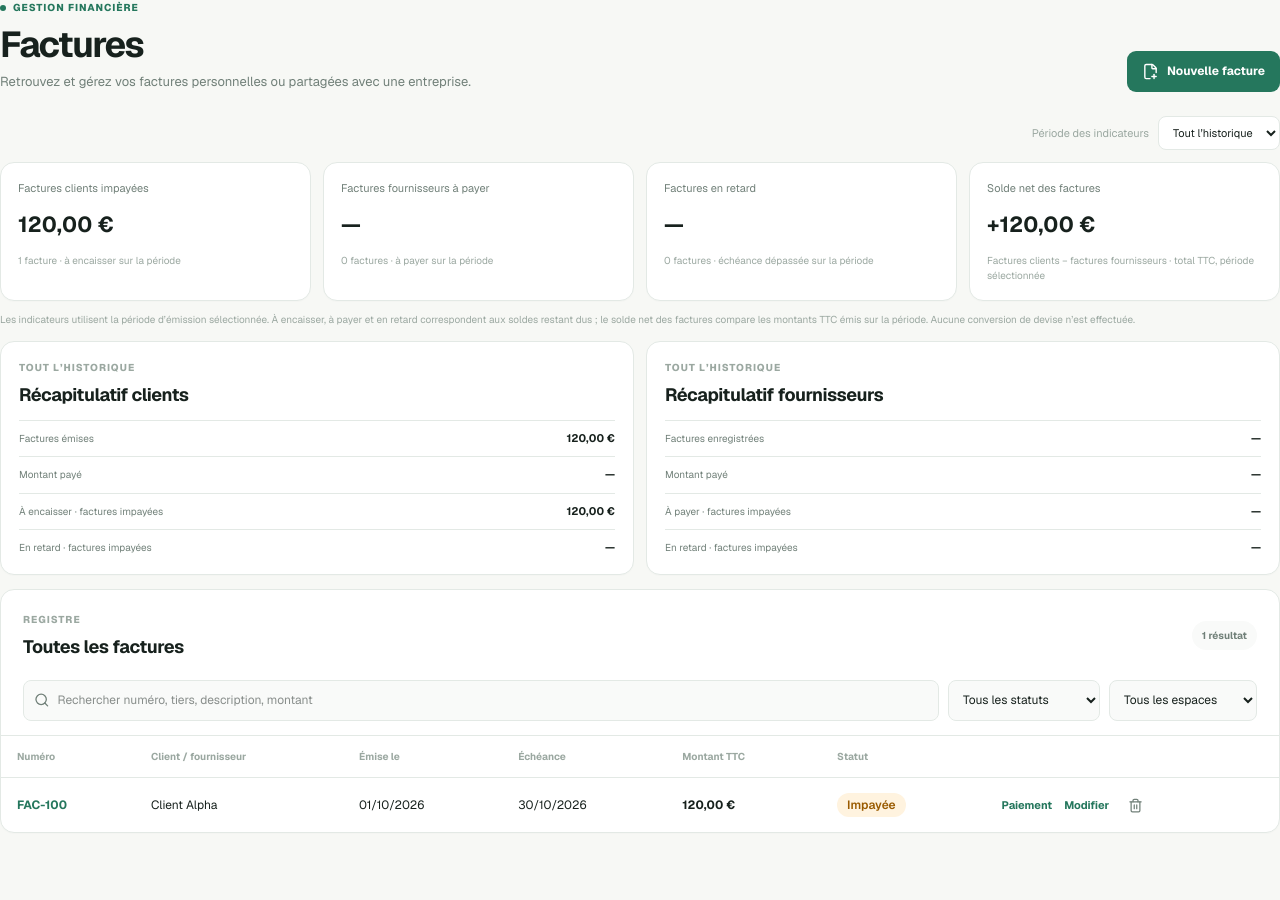
Test: invoice manager › filters by amount and combines search with status filters
Type "120,00" into the search field named "Rechercher une facture".
click(493, 700); type("120,00")  # box [58,681,928,720]
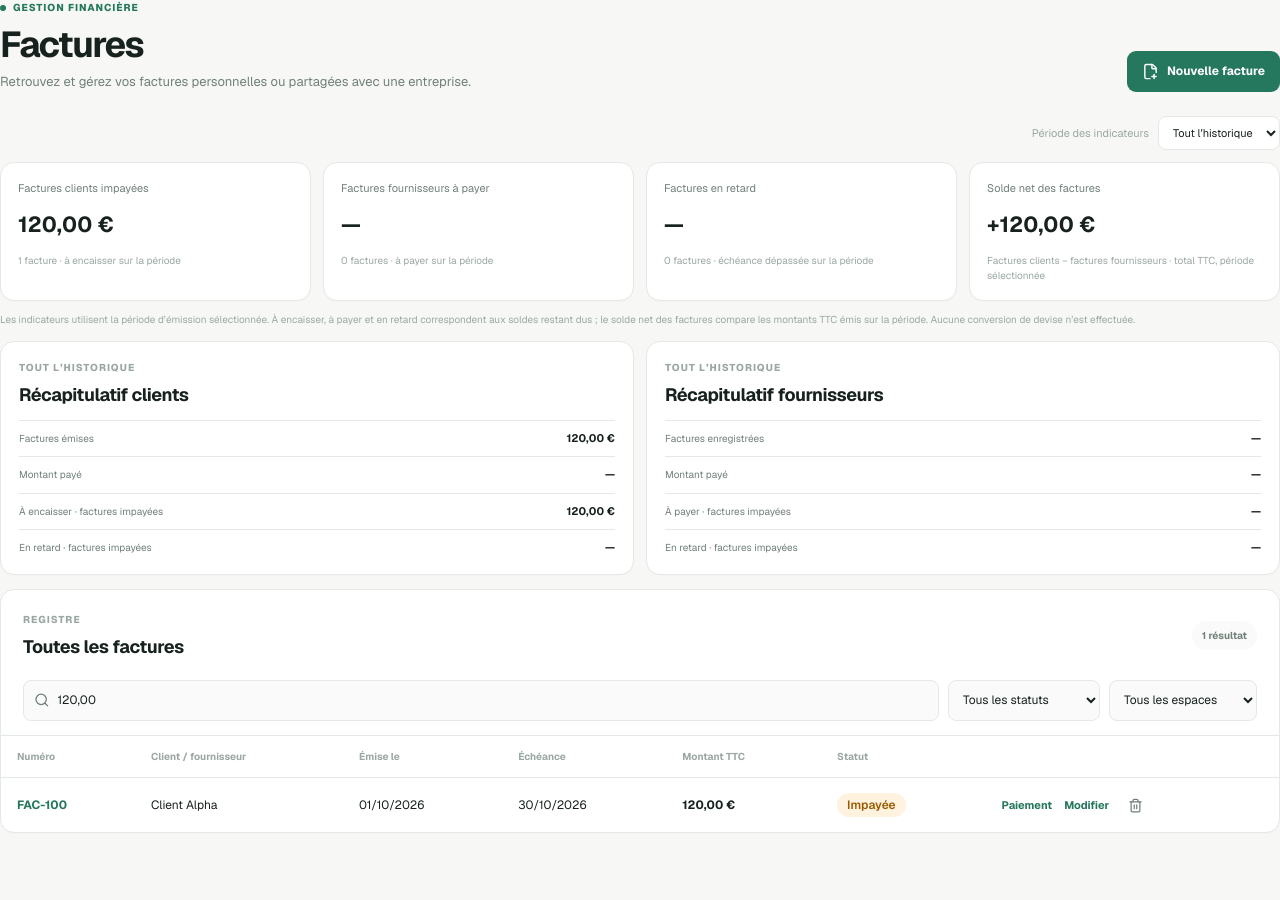
Expected: the button "FAC-100" is shown, [17,796,67,814]
Select "Payée" in the dropdown named "Filtrer par statut" at (1024, 700), box [948,680,1100,721]
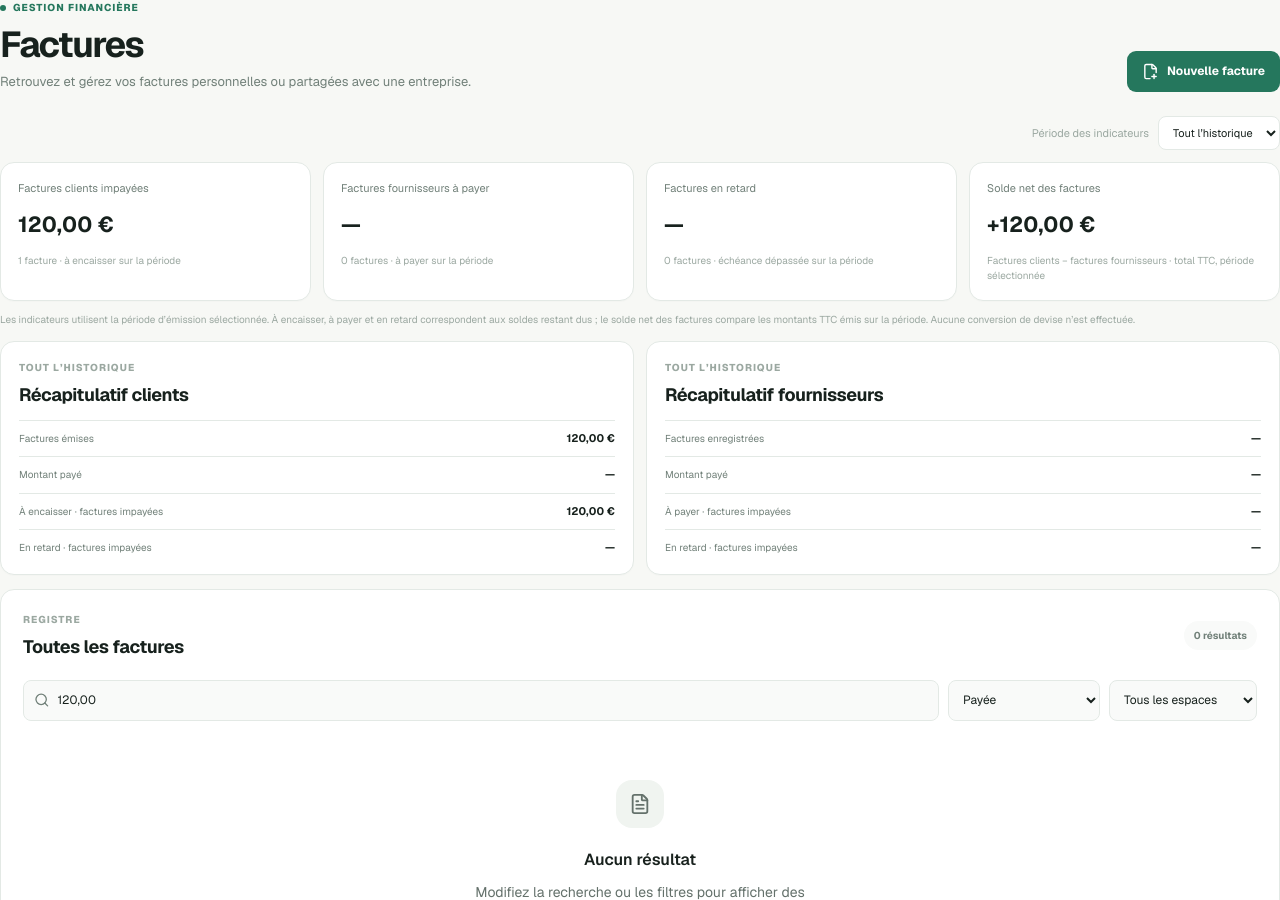
Expected: the heading "Aucun résultat" is shown, [584,848,696,872]
